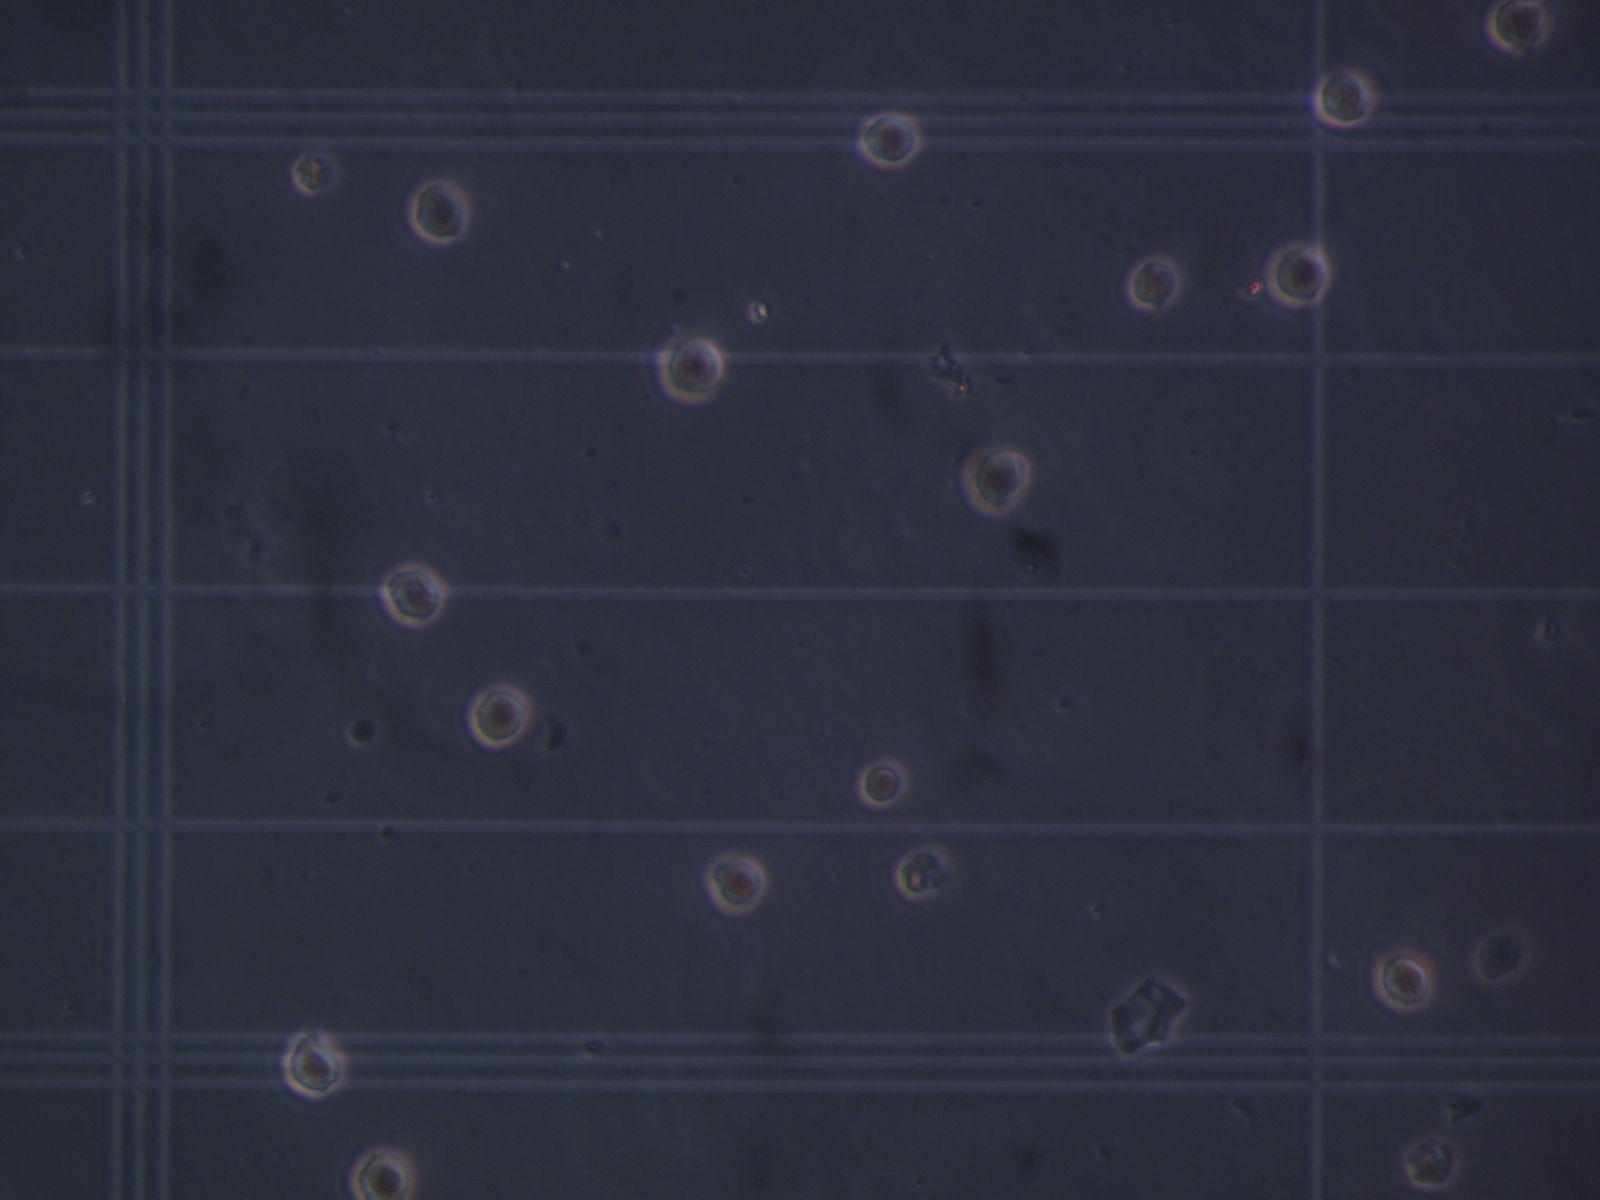hemo: (963, 441, 1031, 517), (406, 176, 476, 245), (659, 332, 724, 405), (380, 565, 449, 630), (859, 105, 926, 169), (466, 679, 530, 746), (285, 1031, 346, 1100), (1311, 66, 1377, 130), (350, 1147, 425, 1200), (1267, 245, 1330, 306), (1471, 924, 1534, 984), (1376, 950, 1432, 1013), (711, 855, 770, 914), (894, 841, 952, 899), (1402, 1133, 1461, 1190), (1490, 1, 1550, 55), (1125, 256, 1184, 310), (855, 754, 912, 809), (291, 145, 346, 197)
